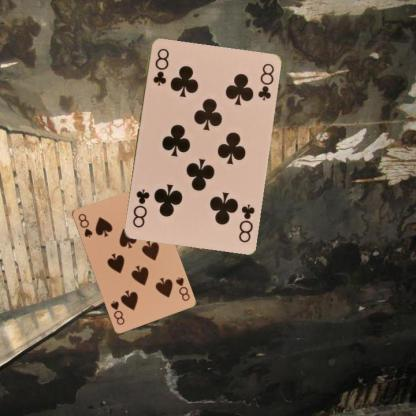8c: (150, 45, 170, 87), (236, 201, 256, 243)
8s: (76, 211, 94, 239), (172, 274, 190, 302)
